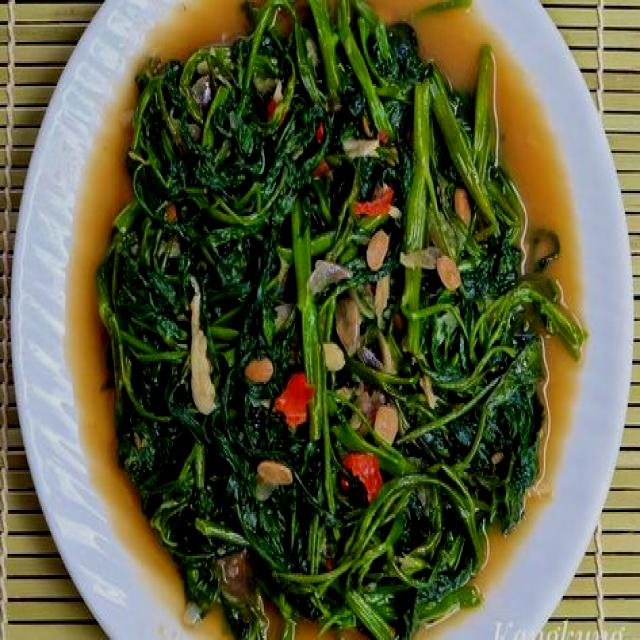tumis kangkung: (37, 0, 589, 640)
